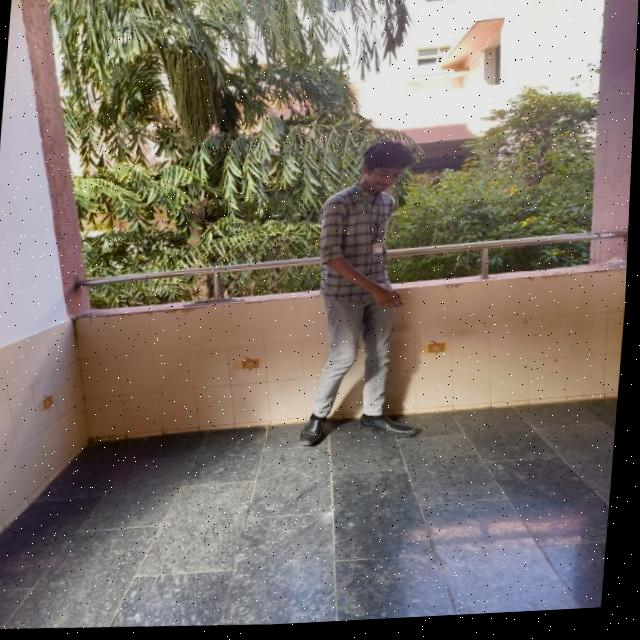id_card: (364, 203, 392, 261)
